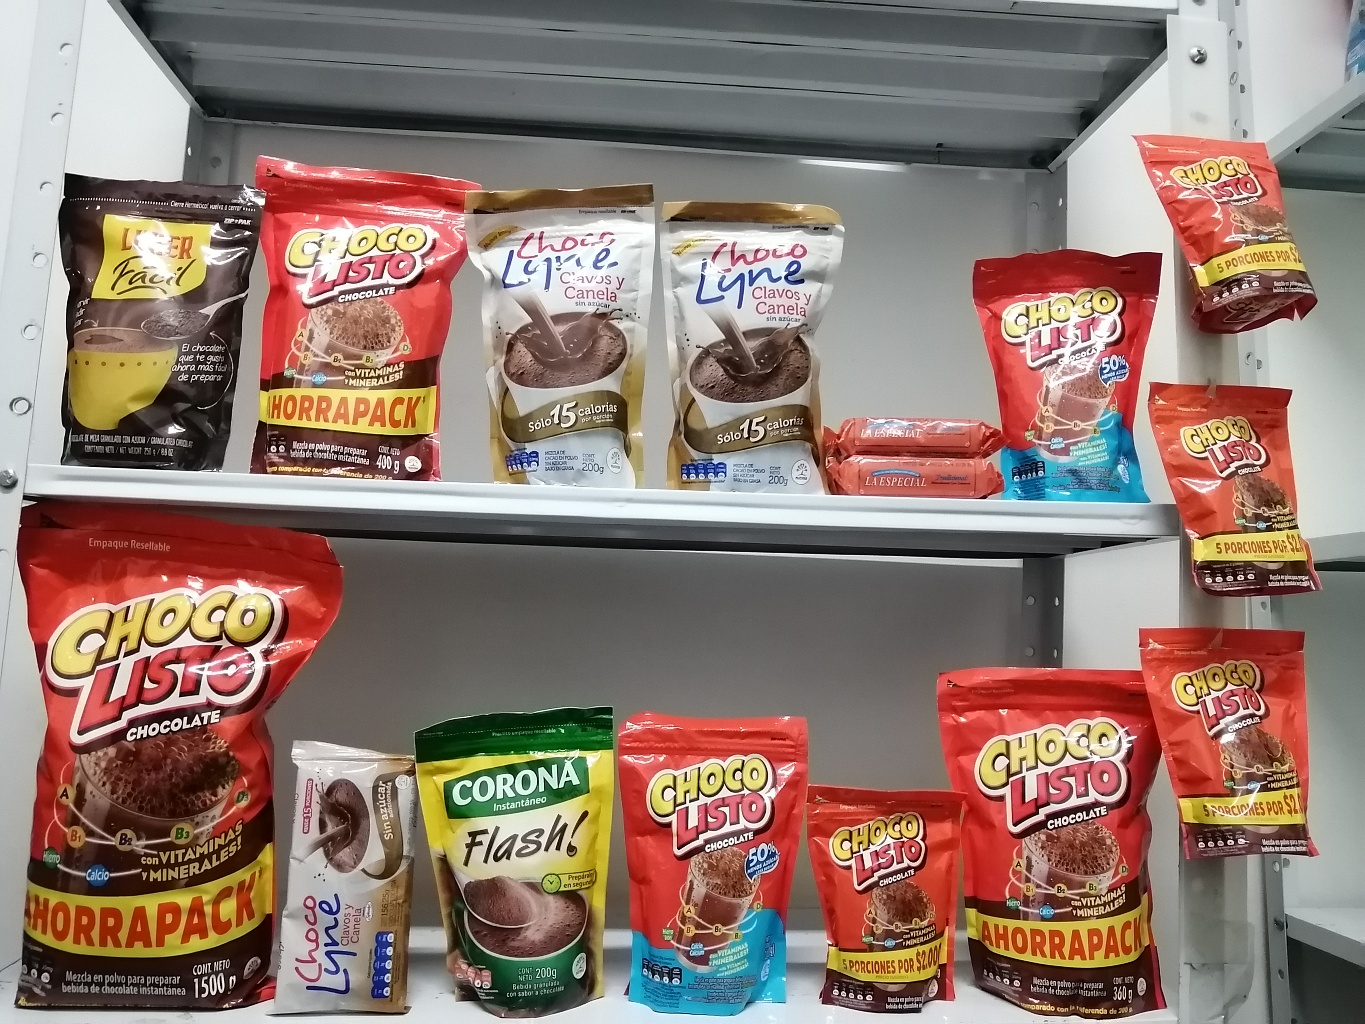COL0170103DYP1,500: (11, 483, 344, 1019)
COL0170103DYP10000: (1127, 111, 1325, 332)
COL0170103DYP36000: (935, 658, 1190, 1021)
COL0170103DYP40000: (247, 144, 467, 483)
COL0170104DYP20000: (969, 242, 1165, 514)
